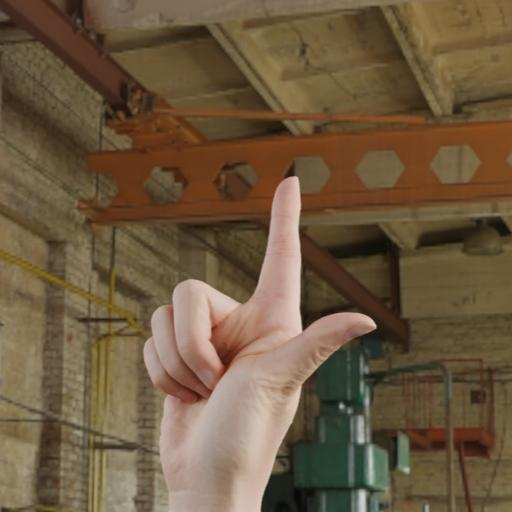L: (135, 167, 382, 510)
